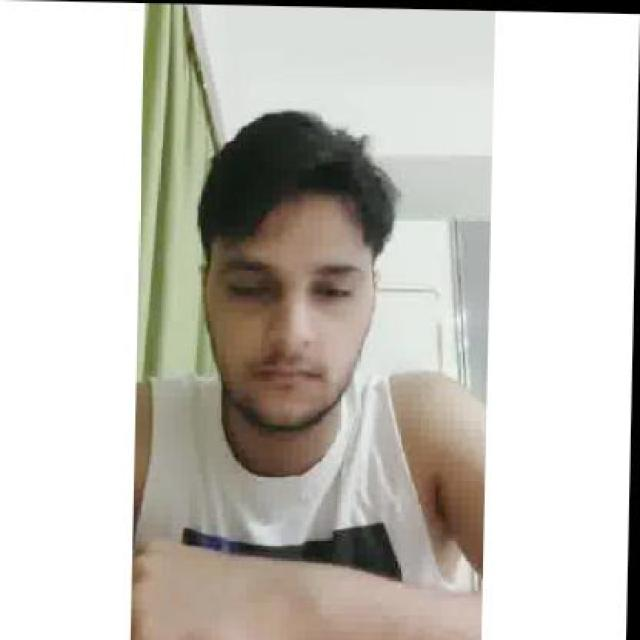inattentif: (196, 103, 387, 431)
